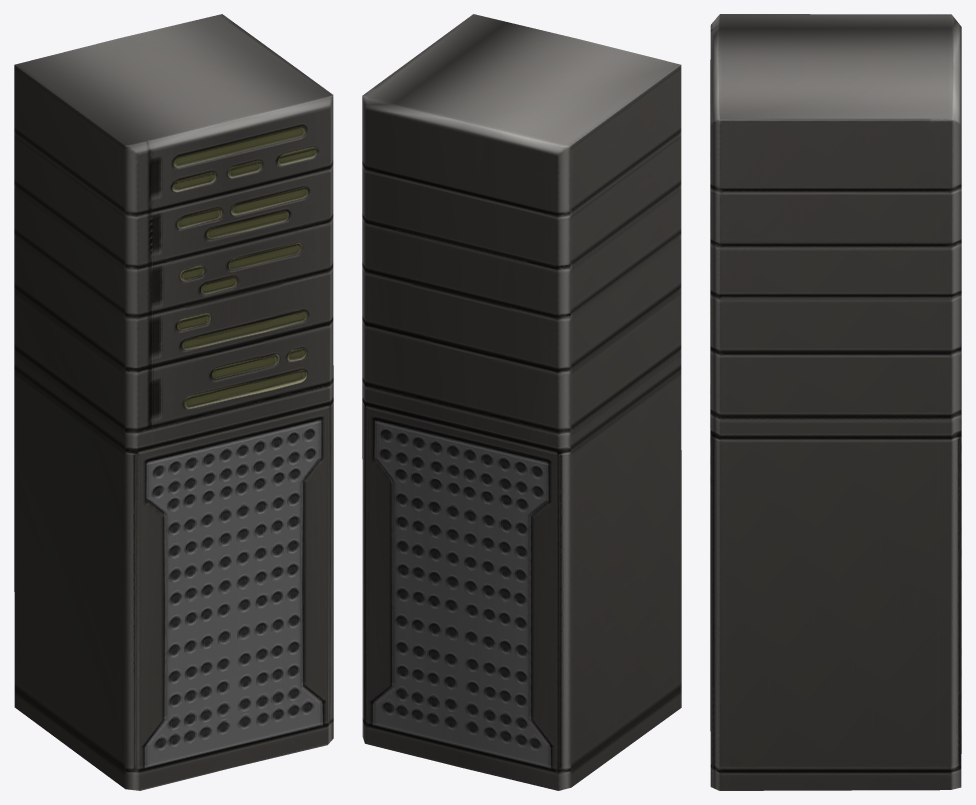
Rendered from ServerBase.fbx.
3 renders of one model, left to right at view 1: azimuth 30°, elevation 25°; view 2: azimuth 150°, elevation 25°; view 3: azimuth 270°, elevation 25°, orthographic. The views are drawn at different scales.
Parts seen in each view (by area): view 1: LowServerBase:RetopoGroup1; view 2: LowServerBase:RetopoGroup1; view 3: LowServerBase:RetopoGroup1.
Part boxes in pixels (<box>): LowServerBase:RetopoGroup1: <box>14,14,333,790</box>; LowServerBase:RetopoGroup1: <box>362,14,681,790</box>; LowServerBase:RetopoGroup1: <box>710,14,961,790</box>.
Size of the model in its own units: 64.7 by 191 by 64.7.
